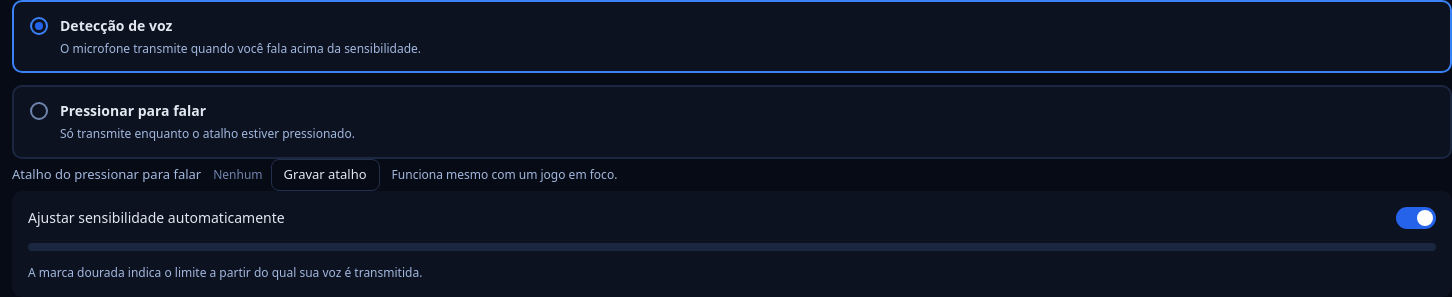
Test case: o modo de entrada › começa na detecção de voz; escolher o pressionar para falar guarda e esconde a sensibilidade
This screenshot has width=1452, height=297.
expect the radio button labelled "Detecção de voz" is checked: met, box [12,0,1451,73]
expect the switch named "Ajustar sensibilidade automaticamente" is checked: met, box [1396,207,1436,229]
Click the radio button labelled "Pressionar para falar". click: (732,122)
box: [12,85,1451,159]
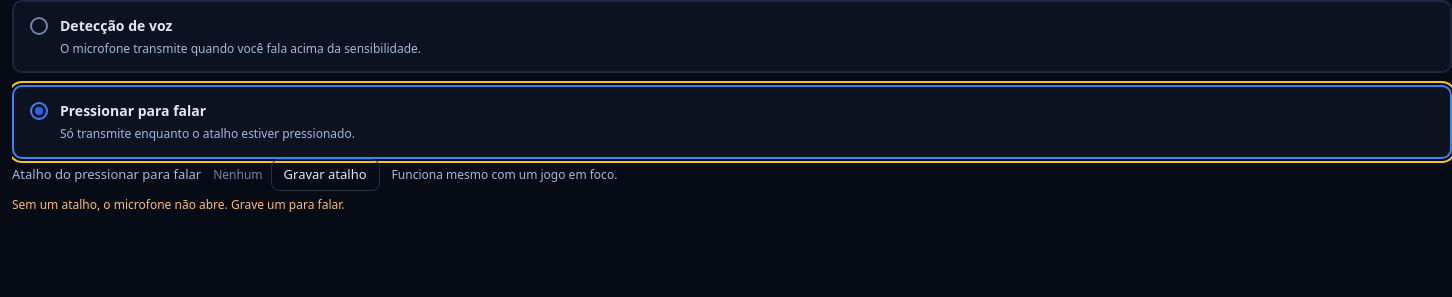
expect the text "Ajustar sensibilidade automaticamente" is gone: met
